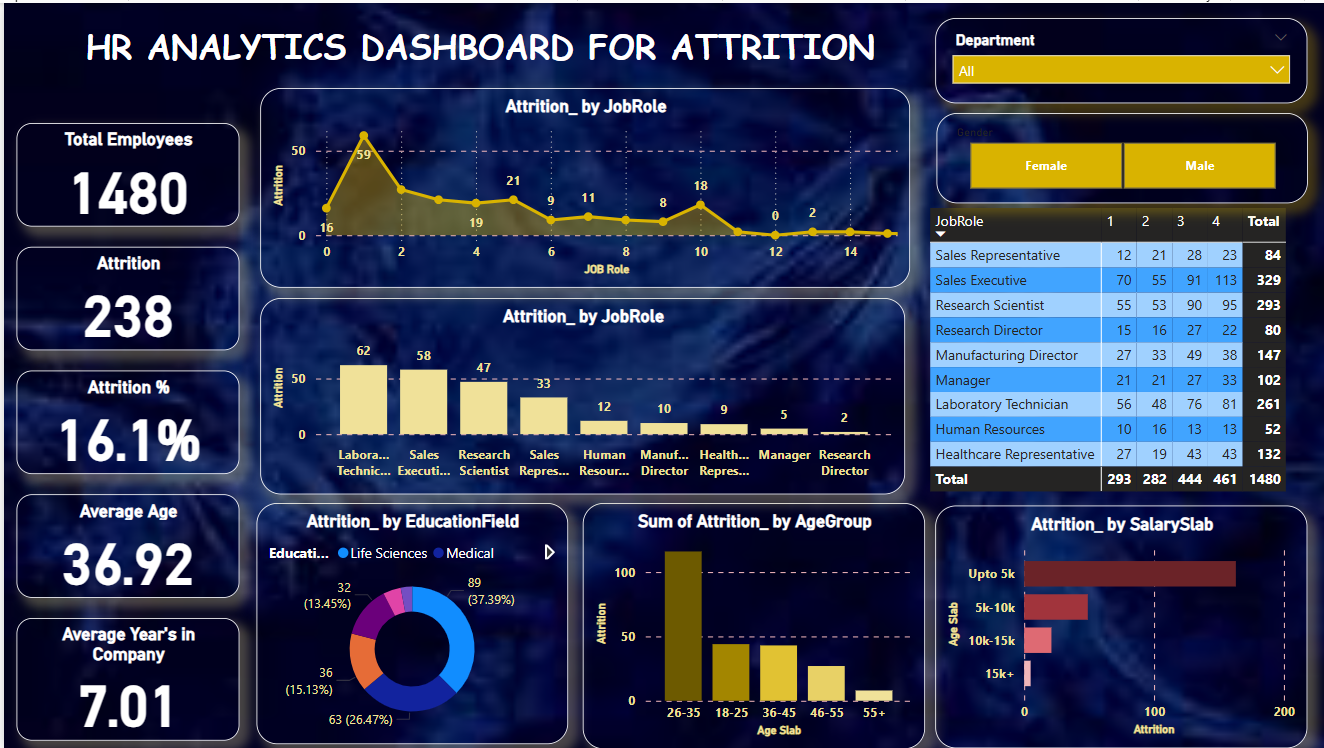

The dashboard page shown, as its layout file describes it:
{"tool":"powerbi","page":{"name":"HR Analysis","canvas":[1280,720],"ordinal":0},"visuals":[{"type":"card","title":"Total Employees","fields":{"Values":["Sum(HR_Analytics.EmployeeCount)"]},"box":[12.1,115.6,215,100],"z":0},{"type":"card","title":"Attrition","fields":{"Values":["Sum(HR_Analytics.Attrition_)"]},"box":[12.1,235.1,215,100],"z":1000},{"type":"card","title":"Attrition %","fields":{"Values":["HR_Analytics.Attrition %"]},"box":[12.1,354.6,215,100],"z":2000},{"type":"card","title":"Average Age","fields":{"Values":["Avg(HR_Analytics.Age)"]},"box":[12.1,474,215,100],"z":3000},{"type":"card","title":"Average Year''s in Company","fields":{"Values":["Avg(HR_Analytics.YearsAtCompany)"]},"box":[12.1,593.5,215,118],"z":4000},{"type":"donutChart","title":" Attrition_ by EducationField","fields":{"Y":["Sum(HR_Analytics.Attrition_)"],"Category":["HR_Analytics.EducationField"]},"box":[243.7,482.6,300.4,232.8],"z":5000},{"type":"columnChart","fields":{"Category":["HR_Analytics.AgeGroup"],"Y":["Sum(HR_Analytics.Attrition_)"]},"box":[558.6,482.6,330.6,237.7],"z":6000},{"type":"clusteredBarChart","title":" Attrition_ by SalarySlab","fields":{"Category":["HR_Analytics.SalarySlab"],"Y":["Sum(HR_Analytics.Attrition_)"]},"box":[898.8,485,359.5,234],"z":7000},{"type":"columnChart","title":"Attrition_ by JobRole","fields":{"Y":["Sum(HR_Analytics.Attrition_)"],"Category":["HR_Analytics.JobRole"]},"box":[247.3,284.7,622.5,189.4],"z":8000},{"type":"areaChart","title":"Attrition_ by JobRole","fields":{"Y":["Sum(HR_Analytics.Attrition_)"],"Category":["HR_Analytics.YearsAtCompany"]},"box":[247.3,82,627.3,193],"z":9000},{"type":"pivotTable","fields":{"Rows":["HR_Analytics.JobRole"],"Columns":["HR_Analytics.JobSatisfaction"],"Values":["Sum(HR_Analytics.EmployeeCount)"]},"box":[889.1,193,369.2,289.5],"z":10000},{"type":"slicer","fields":{"Values":["HR_Analytics.Department"]},"box":[898.8,14.5,359.5,82],"z":11000},{"type":"slicer","fields":{"Values":["HR_Analytics.Gender"]},"box":[900,106.2,358.3,86.9],"z":12000},{"type":"textbox","box":[20,14.5,878.3,82],"z":13000}]}

Visuals, with their boxes in screenshot pixels (x1, y1, x2, y2), scaled from the page's 1280x720 canvas onto the 1324x748 screenshot:
"Total Employees" card: 13 120 235 224
"Attrition" card: 13 244 235 348
"Attrition %" card: 13 368 235 472
"Average Age" card: 13 492 235 596
"Average Year''s in Company" card: 13 617 235 739
" Attrition_ by EducationField" donutChart: 252 501 563 743
columnChart - HR_Analytics.AgeGroup x Sum(HR_Analytics.Attrition_): 578 501 920 747
" Attrition_ by SalarySlab" clusteredBarChart: 930 504 1302 747
"Attrition_ by JobRole" columnChart: 256 296 900 493
"Attrition_ by JobRole" areaChart: 256 85 905 286
pivotTable - HR_Analytics.JobRole x HR_Analytics.JobSatisfaction: 920 201 1302 501
slicer - HR_Analytics.Department: 930 15 1302 100
slicer - HR_Analytics.Gender: 931 110 1302 201
textbox: 21 15 929 100
